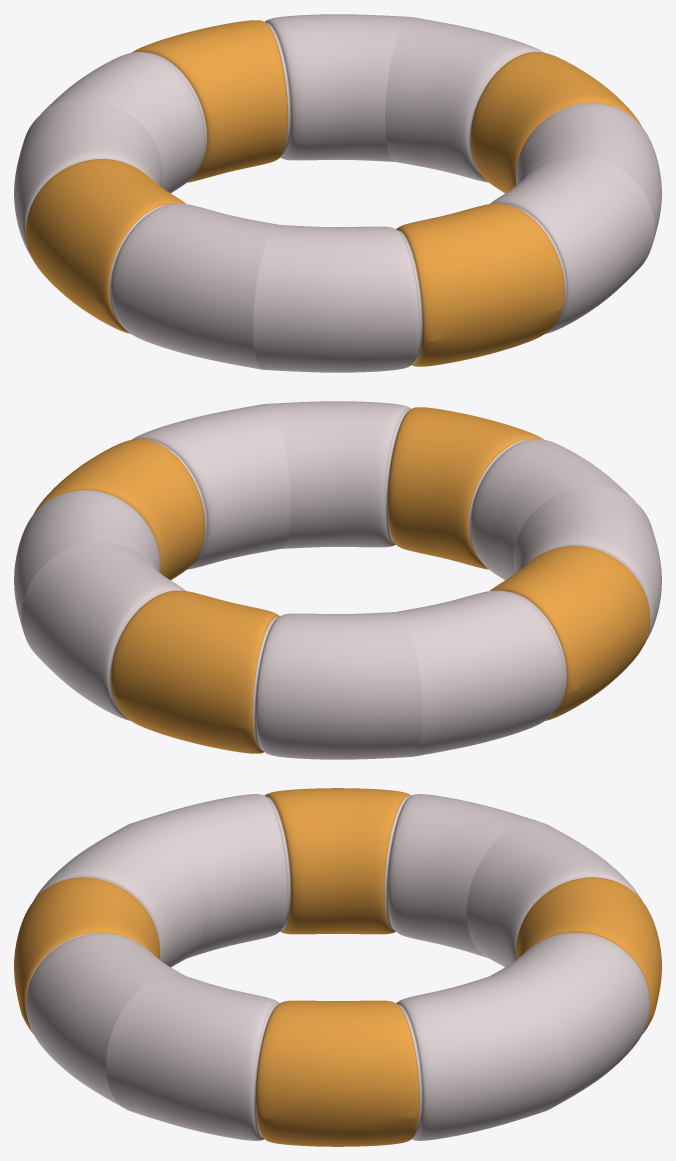
File: 浮き輪.fbx
The picture shows the model from 3 angles, top to bottom: view 1: azimuth 30°, elevation 25°; view 2: azimuth 150°, elevation 25°; view 3: azimuth 270°, elevation 25°; orthographic projection.
Parts seen in each view (by area): view 1: トーラス.002; view 2: トーラス.002; view 3: トーラス.002.
Boxes of the visible parts, x1,y1,x2,y2 form: トーラス.002: [14, 14, 661, 372]; トーラス.002: [14, 401, 661, 759]; トーラス.002: [14, 788, 661, 1146].
Bounding box in the file's own units: 254 × 57.32 × 254.
